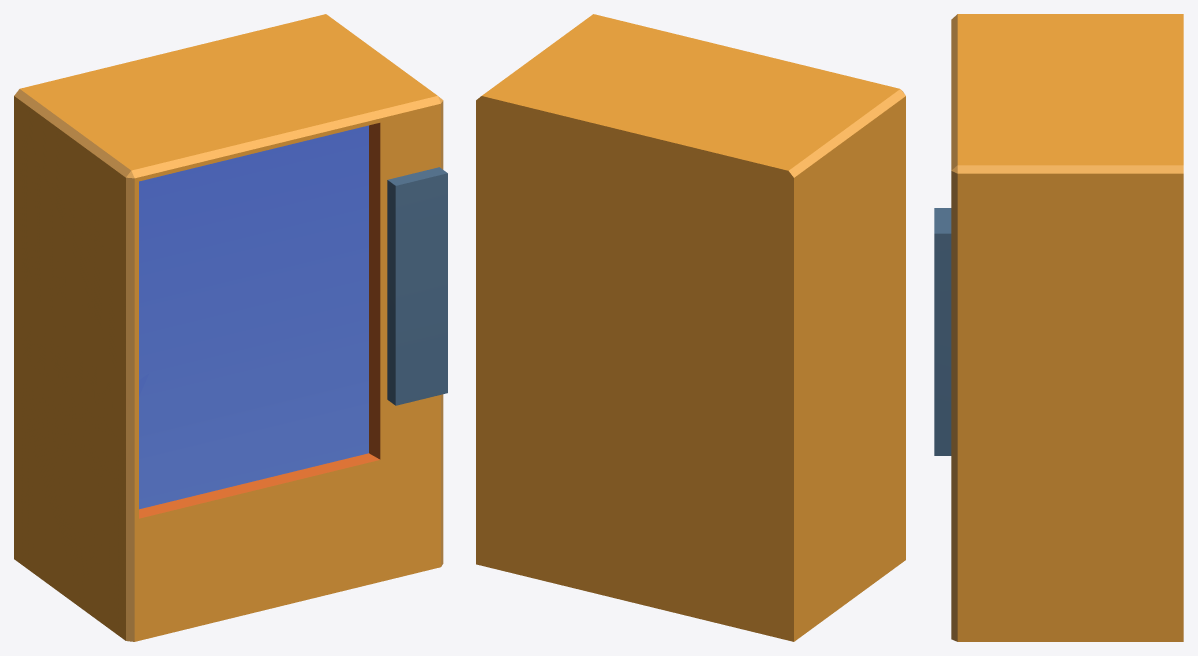
Rendered from drinks_machine_break.fbx.
3 renders of one model, left to right at view 1: azimuth 30°, elevation 25°; view 2: azimuth 150°, elevation 25°; view 3: azimuth 270°, elevation 25°, orthographic.
Parts seen in each view (by area): view 1: shard8, shard2, shard1, shard4, shard5, shard3; view 2: shard2, shard4, shard8, shard5, shard6, shard3; view 3: shard8, shard2, shard1, shard7, shard5.
Part boxes in pixels (x1=…): shard8: x1=82, y1=38, x2=443, y2=641; shard2: x1=14, y1=14, x2=359, y2=399; shard1: x1=387, y1=167, x2=447, y2=405; shard4: x1=14, y1=393, x2=111, y2=608; shard5: x1=14, y1=273, x2=148, y2=440; shard3: x1=14, y1=353, x2=119, y2=478; shard2: x1=476, y1=61, x2=905, y2=354; shard4: x1=596, y1=418, x2=891, y2=641; shard8: x1=476, y1=14, x2=905, y2=599; shard5: x1=476, y1=134, x2=905, y2=435; shard6: x1=484, y1=275, x2=705, y2=536; shard3: x1=476, y1=223, x2=900, y2=474; shard8: x1=951, y1=69, x2=1183, y2=641; shard2: x1=951, y1=14, x2=1183, y2=216; shard1: x1=934, y1=208, x2=951, y2=455; shard7: x1=1139, y1=214, x2=1183, y2=297; shard5: x1=1150, y1=207, x2=1183, y2=256.
Size of the model in its own units: 104 by 147 by 70.05.
